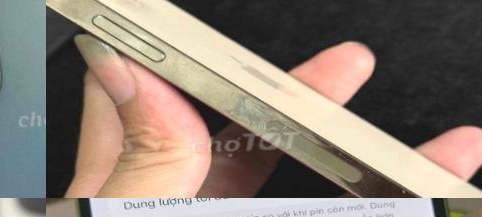scratch: (211, 84, 312, 150), (398, 181, 409, 198)
